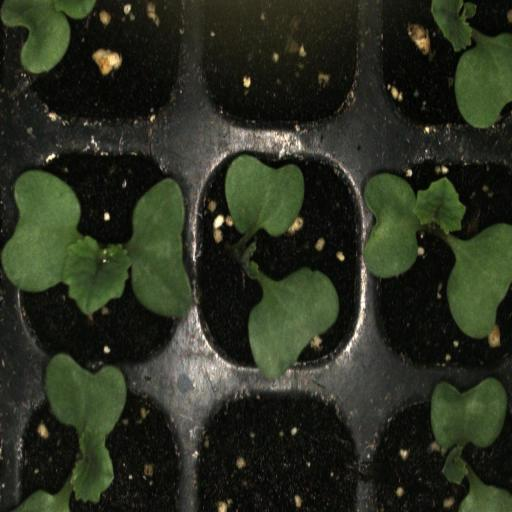Folha: (244, 249, 339, 380), (431, 0, 512, 129), (0, 0, 96, 76), (225, 154, 304, 237)
Germinacao: (0, 130, 192, 380), (191, 138, 367, 373), (368, 135, 512, 377), (13, 372, 192, 512), (368, 378, 512, 512)
